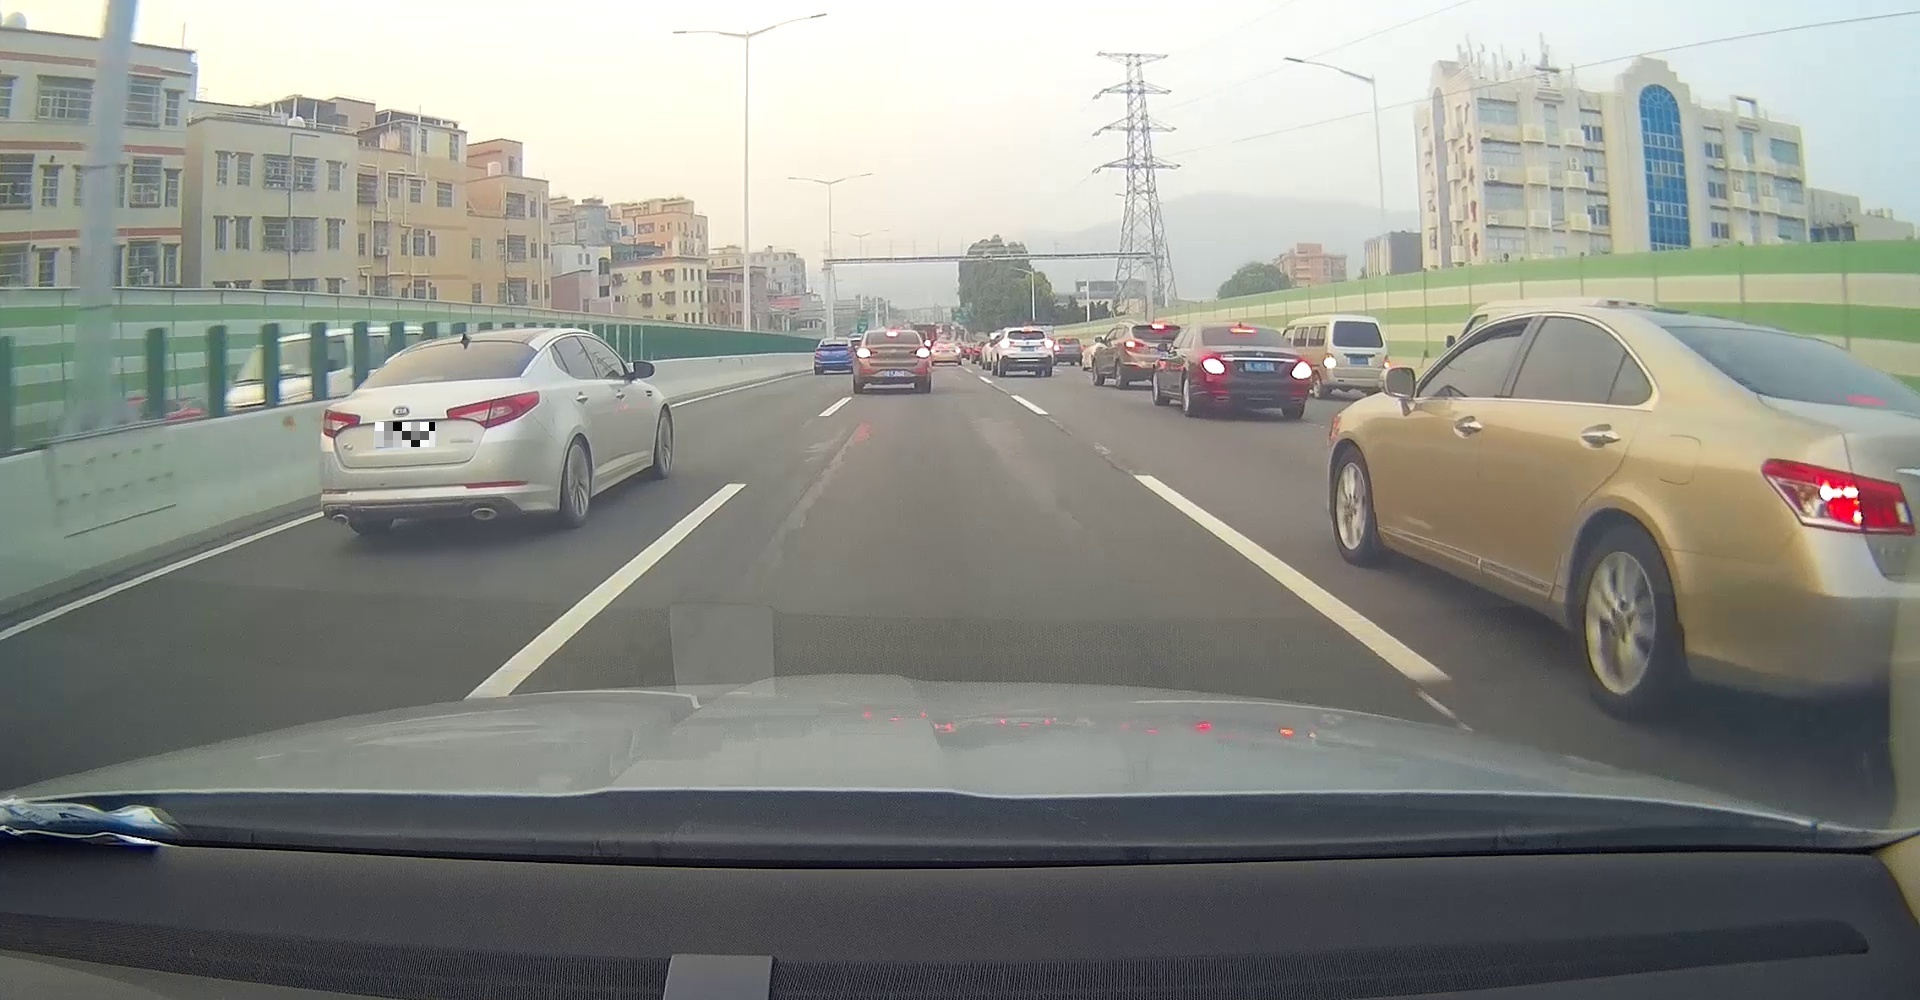L_light: (323, 409, 361, 438), (1201, 357, 1225, 376), (857, 346, 871, 358), (1324, 354, 1335, 369), (1001, 340, 1015, 348)
R_light: (446, 391, 538, 429), (1290, 360, 1310, 379), (916, 346, 930, 358), (1383, 354, 1390, 371), (1040, 340, 1051, 348)
T_light: (411, 374, 443, 382), (1230, 327, 1255, 334), (886, 331, 898, 338), (1349, 321, 1361, 326), (1021, 329, 1032, 332)
day-brake: (1197, 324, 1313, 418), (853, 329, 931, 393), (999, 327, 1053, 377)
day-left: (1324, 315, 1390, 400)
day-no: (320, 326, 540, 538)
plate_1: (375, 423, 436, 447)
